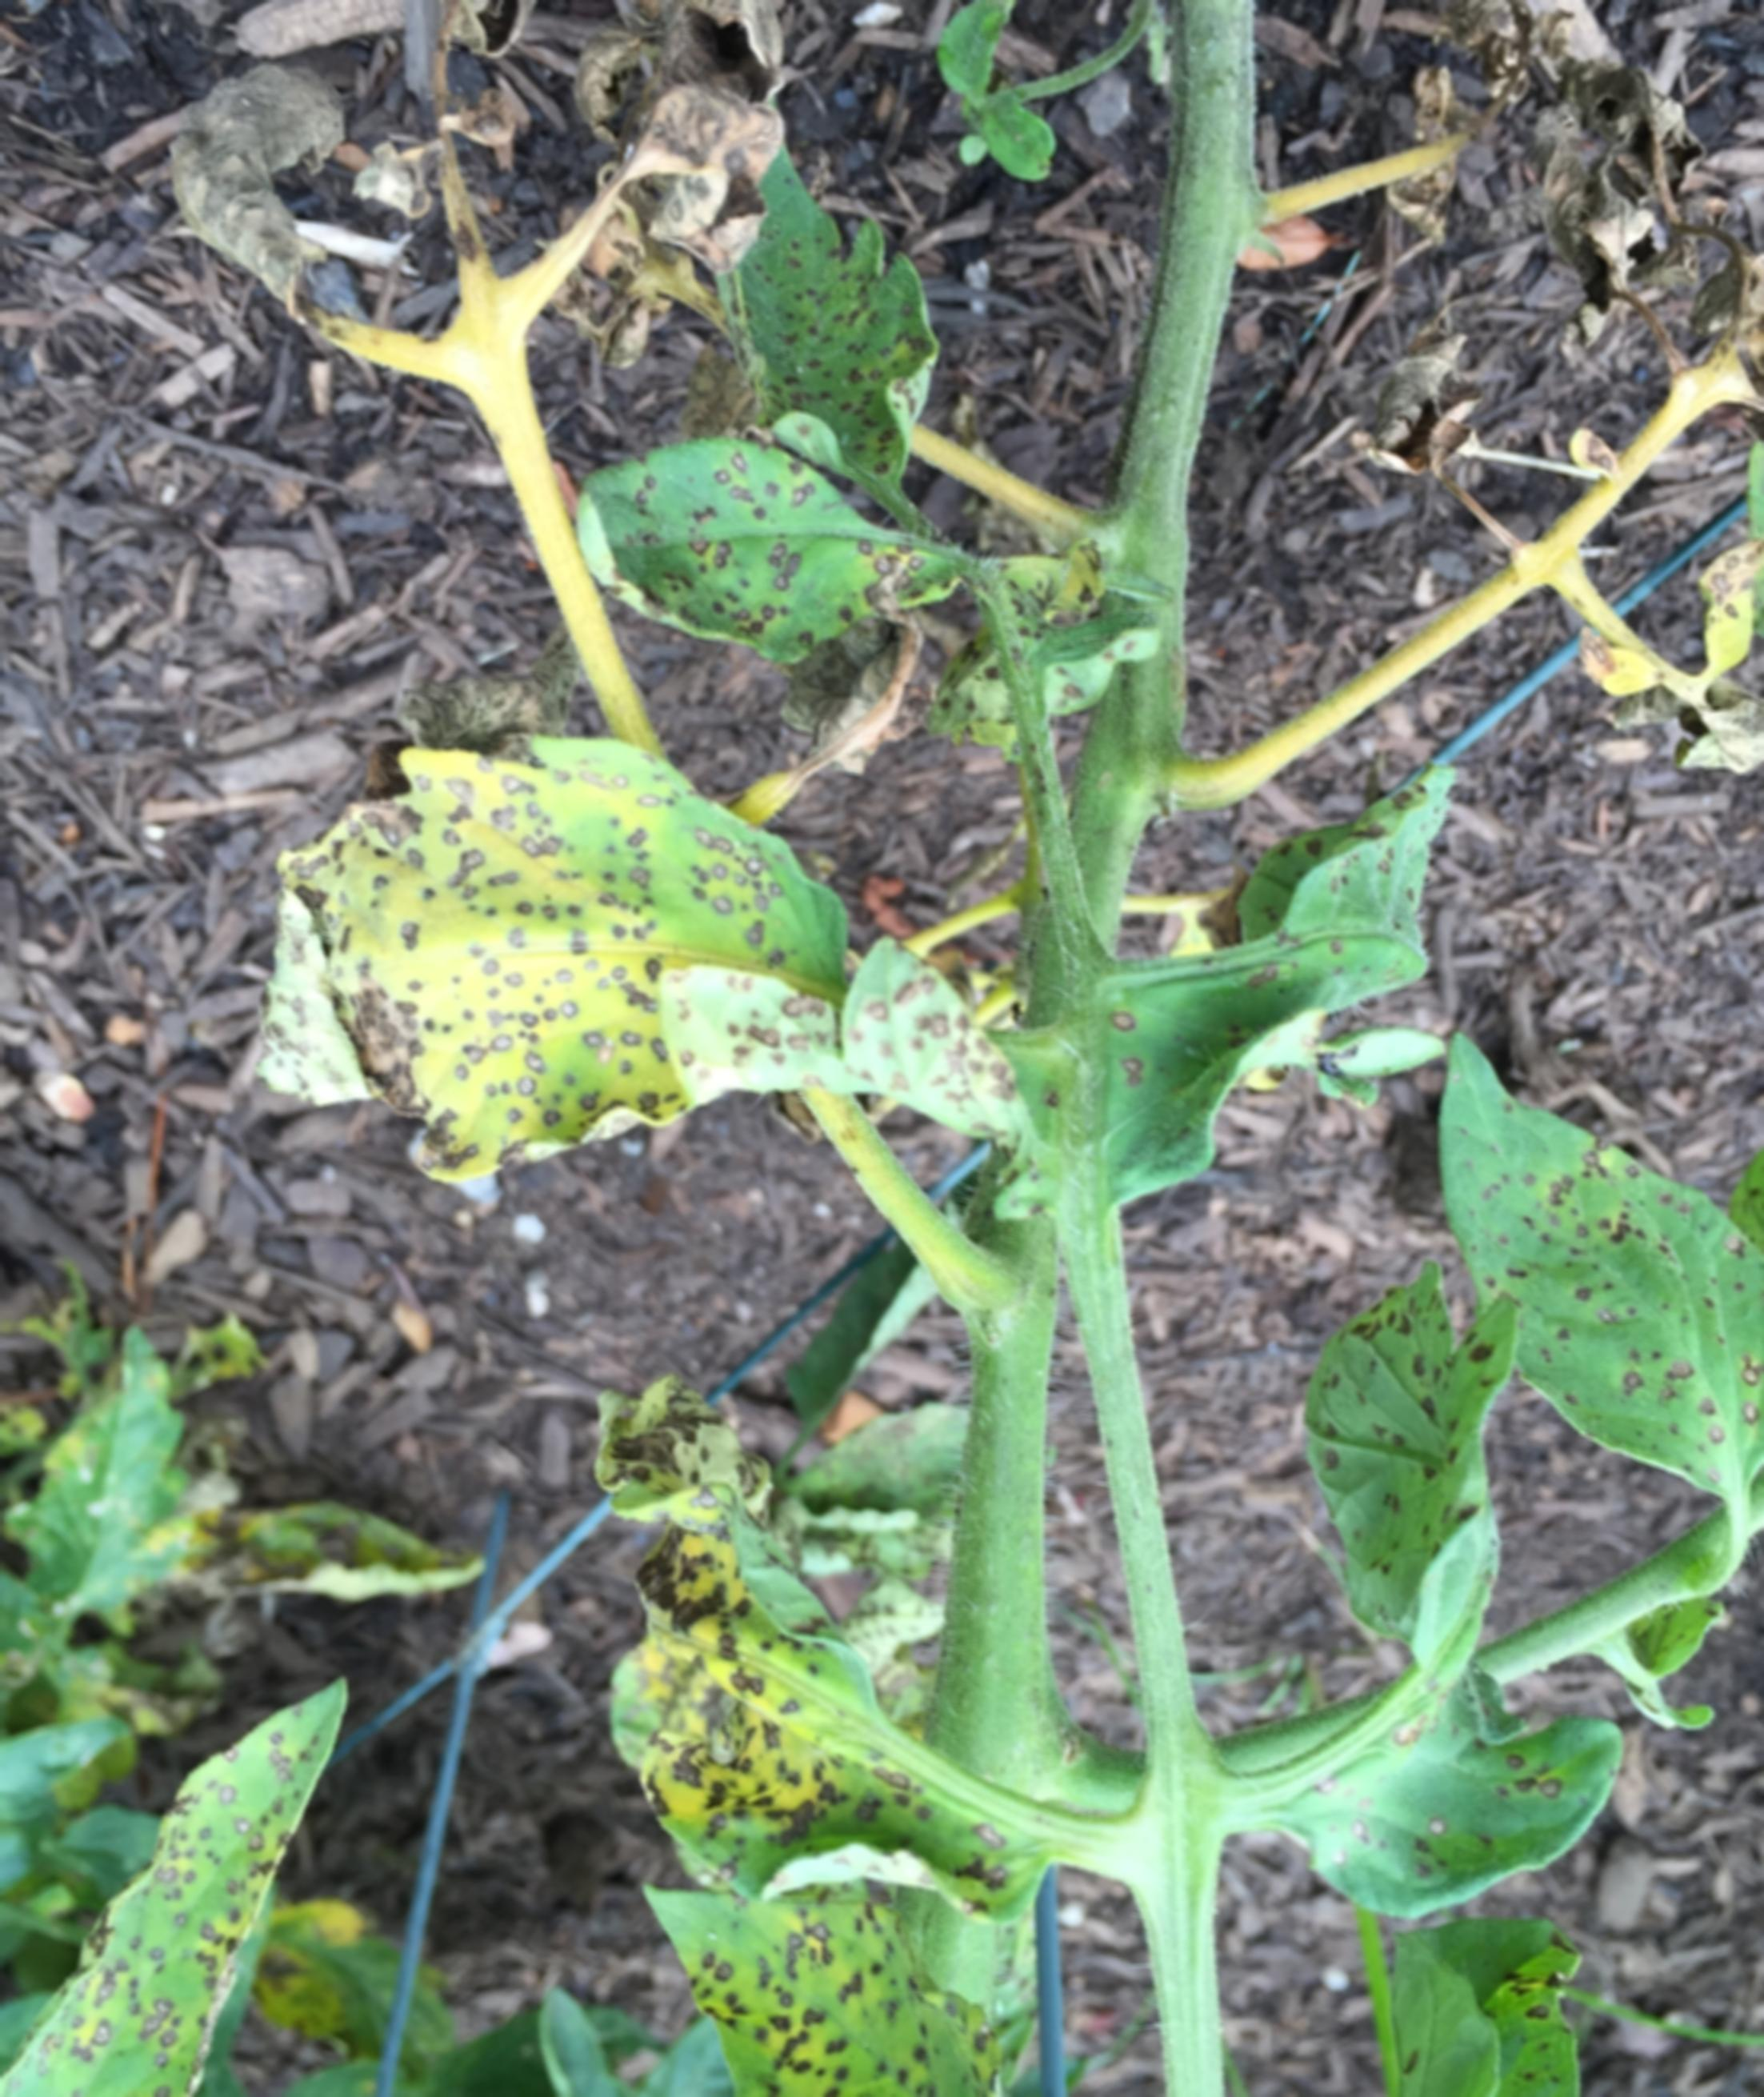Tomato Septoria leaf spot: (140, 709, 1106, 1178), (579, 1367, 1074, 1904), (1400, 1010, 1764, 1500), (1073, 747, 1447, 1224), (0, 1684, 355, 2097), (702, 133, 1031, 494), (625, 1873, 1146, 2097), (504, 420, 961, 670), (1277, 1267, 1538, 1687)
